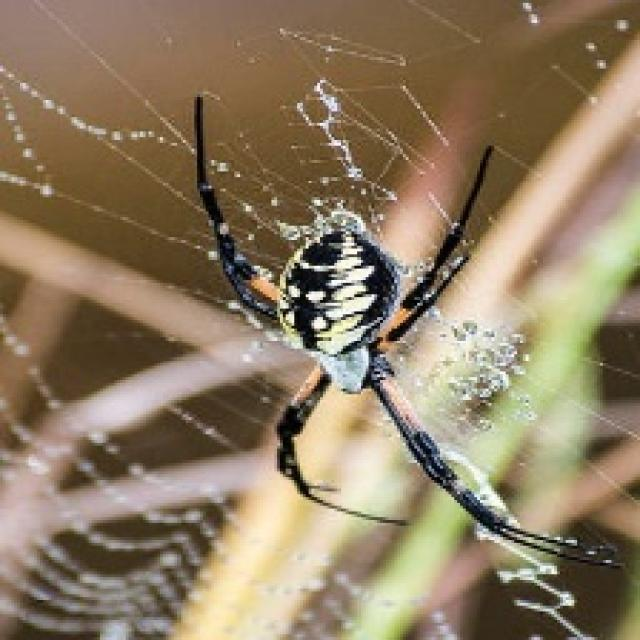Non venomous spider: (110, 49, 604, 582)
